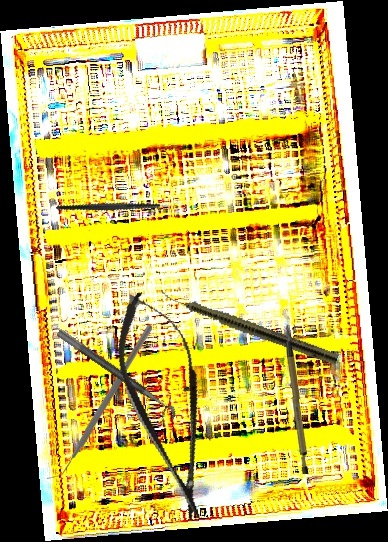Chopper: (43, 325, 155, 479), (55, 160, 183, 248)
Fixation Ring: (48, 327, 180, 429)
Handpiece: (157, 287, 340, 366)
Micro Scissor: (102, 283, 233, 529)
Scalpel Handle: (282, 325, 314, 474)
